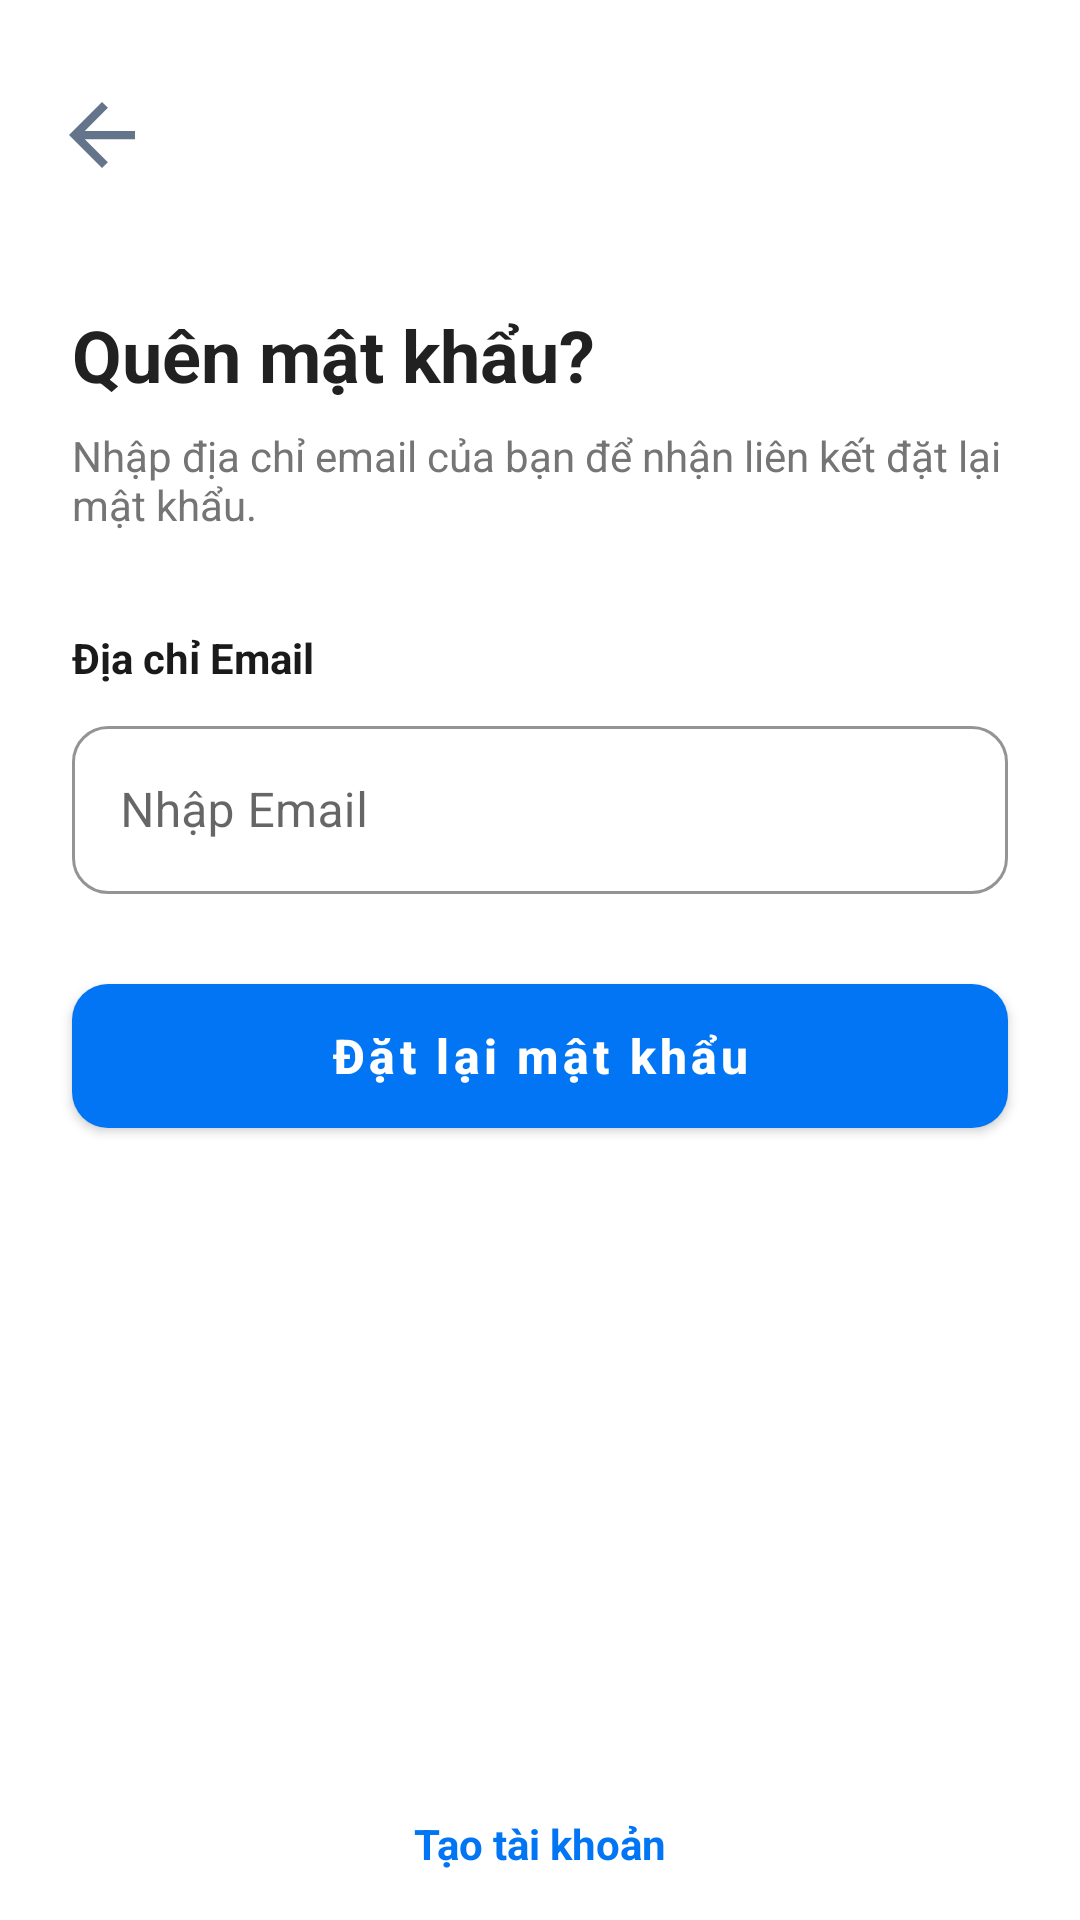

Icons on this 1080 x 1920 Android screen, each with its box as (x1, y1, x2, y2):
back: (69, 102, 135, 168)
